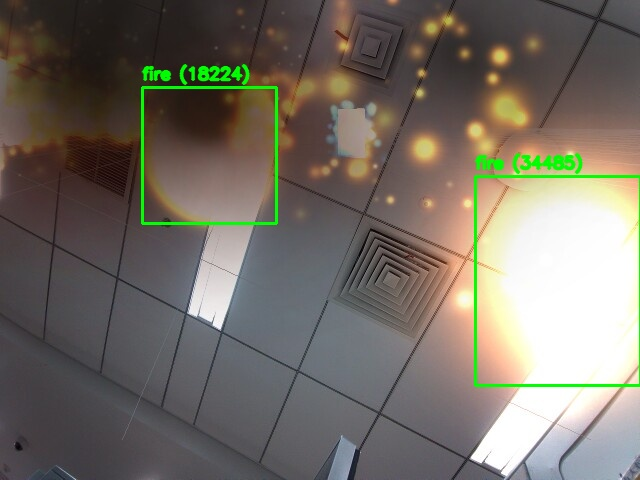fire: (475, 176, 640, 385), (142, 87, 276, 223)
